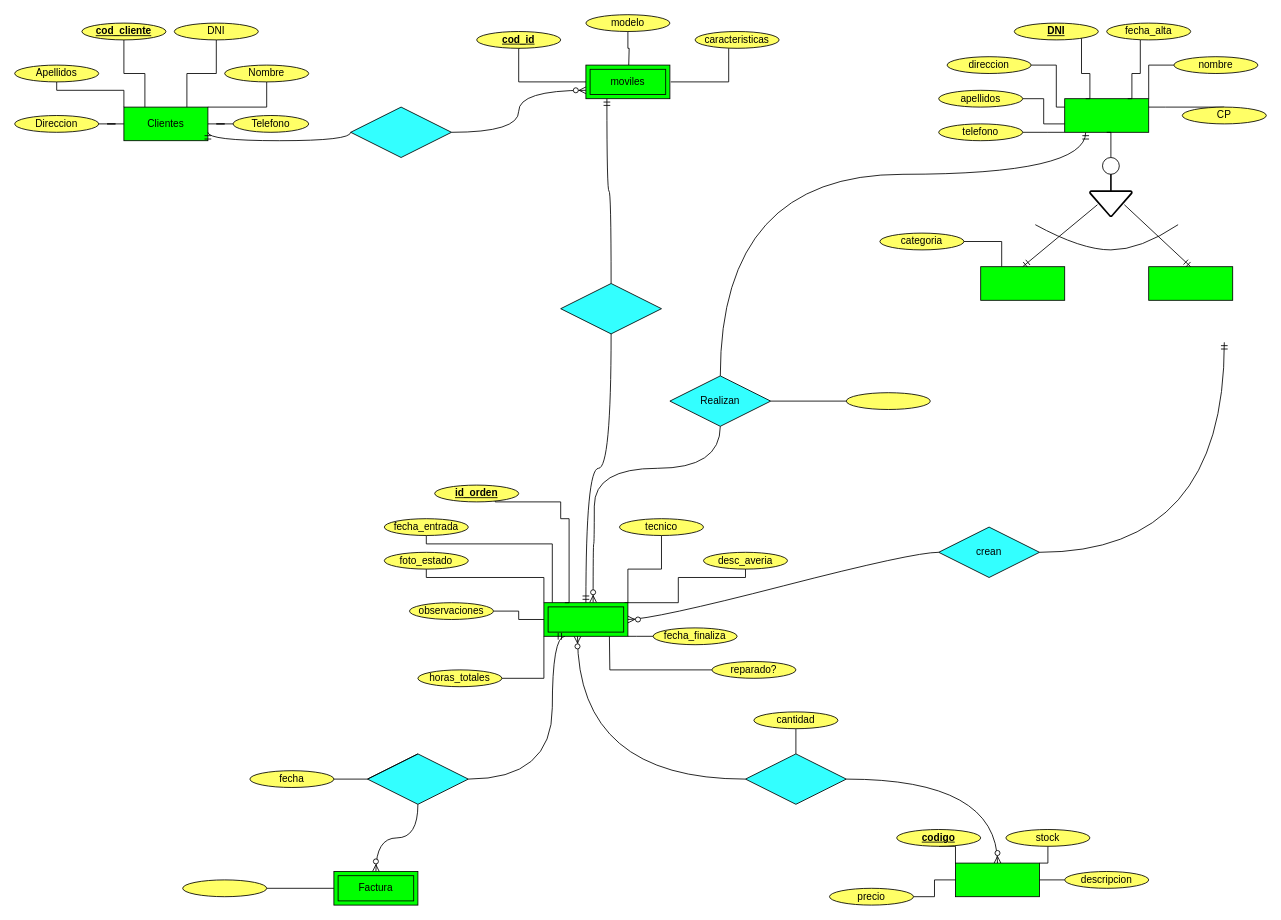
Some shapes in this 1281 by 920 pixel diagram are drawn without their labels. Each missing label, with the centre of its shape:
"Adiministracion" belongs at point (1190, 283).
"Asignados a" belongs at point (611, 308).
"Creado_por" belongs at point (887, 401).
"Empleados" belongs at point (1106, 115).
"Generan" belongs at point (417, 778).
"num_factura" belongs at point (224, 888).
"Orden de reparacion" belongs at point (585, 619).
"recambios" belongs at point (997, 879).
"Requieren" belongs at point (795, 778).
"Tecnicos" belongs at point (1022, 283).
"Traen" belongs at point (401, 132).
